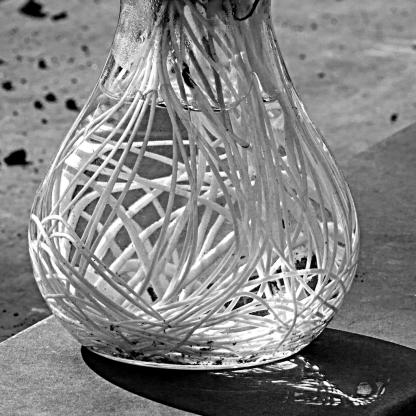vase: (25, 0, 359, 372)
